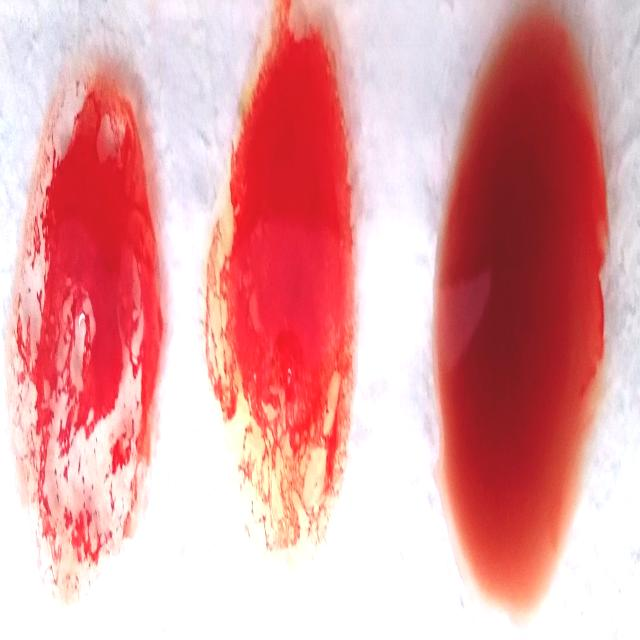B: (214, 2, 351, 576)
D: (12, 42, 160, 585)
